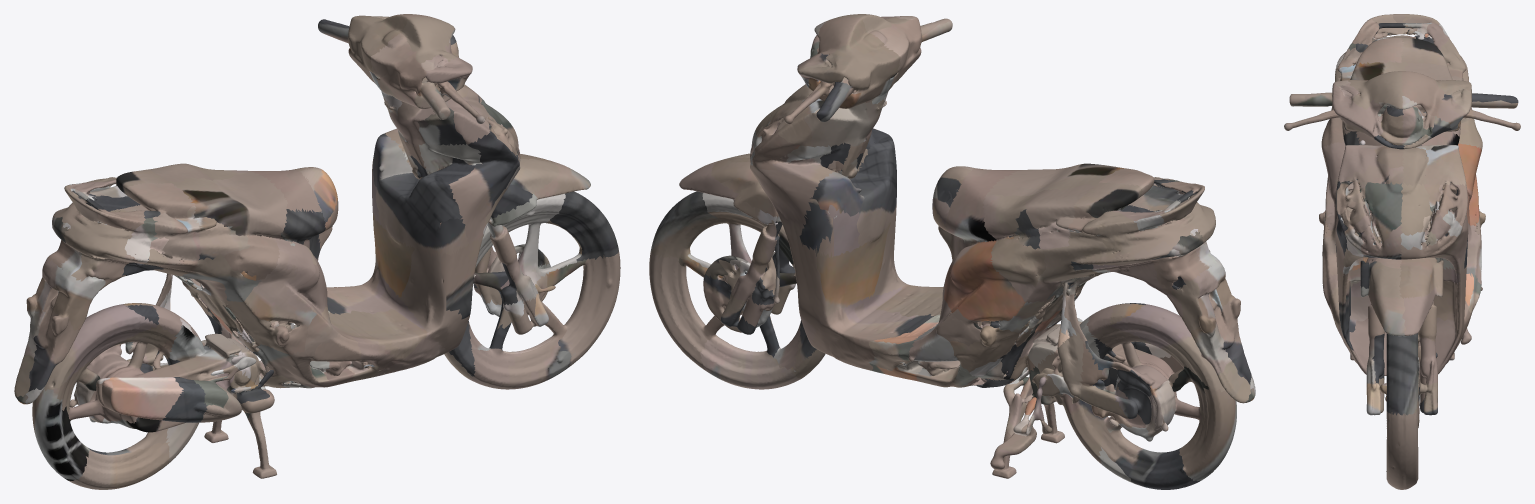
3 views of the same model, side by side, from view 1: azimuth 30°, elevation 25°; view 2: azimuth 150°, elevation 25°; view 3: azimuth 270°, elevation 25° (orthographic). The views are drawn at different scales.
Visible parts, largest first — view 1: tripo_node_6f7f95ed-97b3-43dc-897f-ac1a638c3afa; view 2: tripo_node_6f7f95ed-97b3-43dc-897f-ac1a638c3afa; view 3: tripo_node_6f7f95ed-97b3-43dc-897f-ac1a638c3afa.
Part boxes in pixels (x1=…): tripo_node_6f7f95ed-97b3-43dc-897f-ac1a638c3afa: x1=14, y1=14, x2=620, y2=489; tripo_node_6f7f95ed-97b3-43dc-897f-ac1a638c3afa: x1=649, y1=14, x2=1255, y2=489; tripo_node_6f7f95ed-97b3-43dc-897f-ac1a638c3afa: x1=1284, y1=14, x2=1520, y2=489.
Bounding box in the file's own units: 100 × 63.41 × 37.72.
